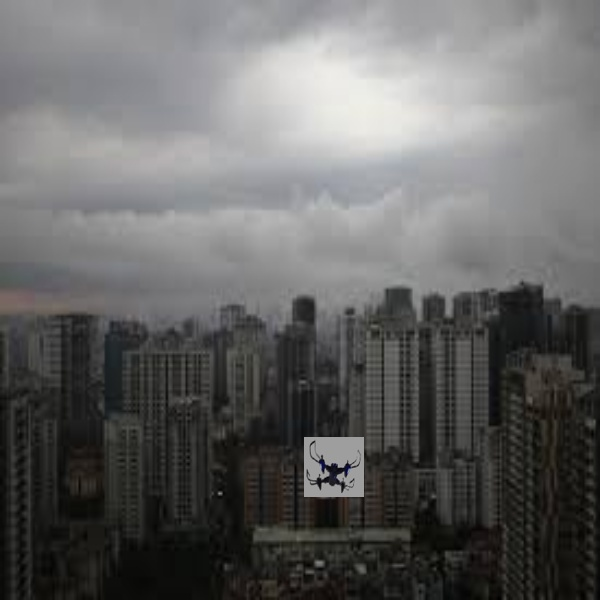drone: (301, 438, 365, 499)
